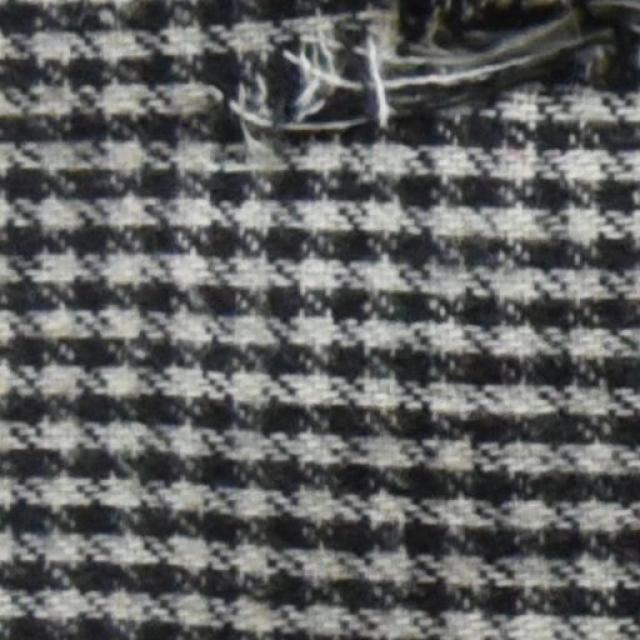Snag: (232, 0, 638, 158)
